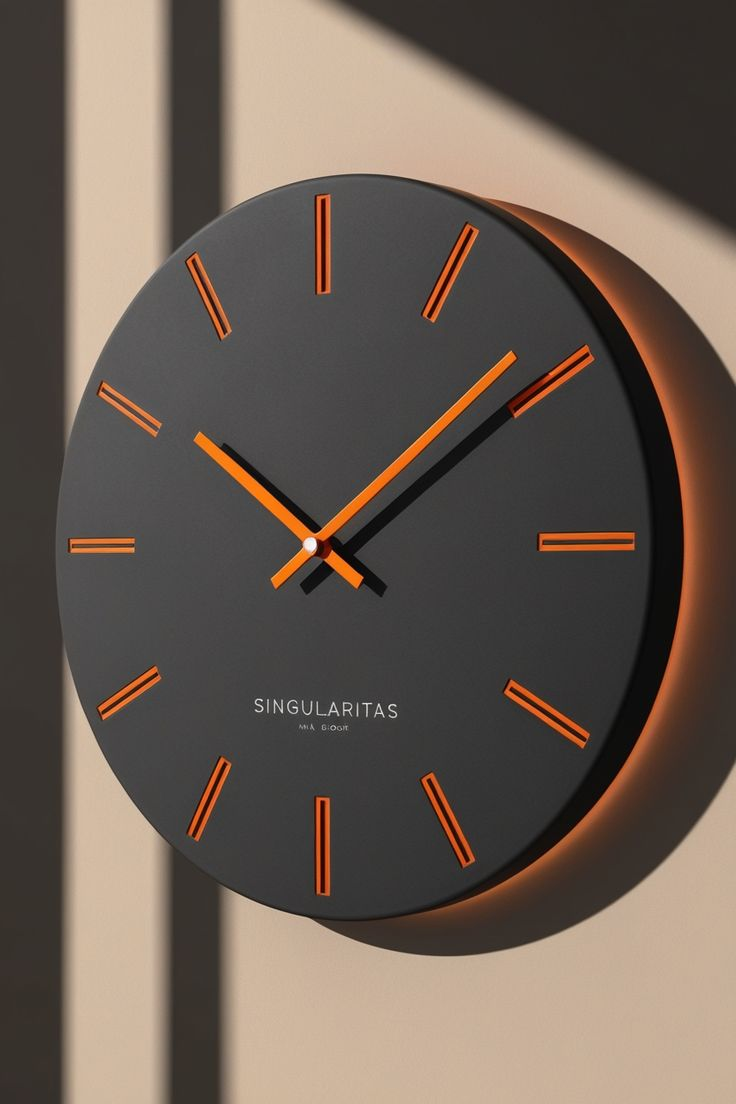clock: (38, 143, 725, 950)
